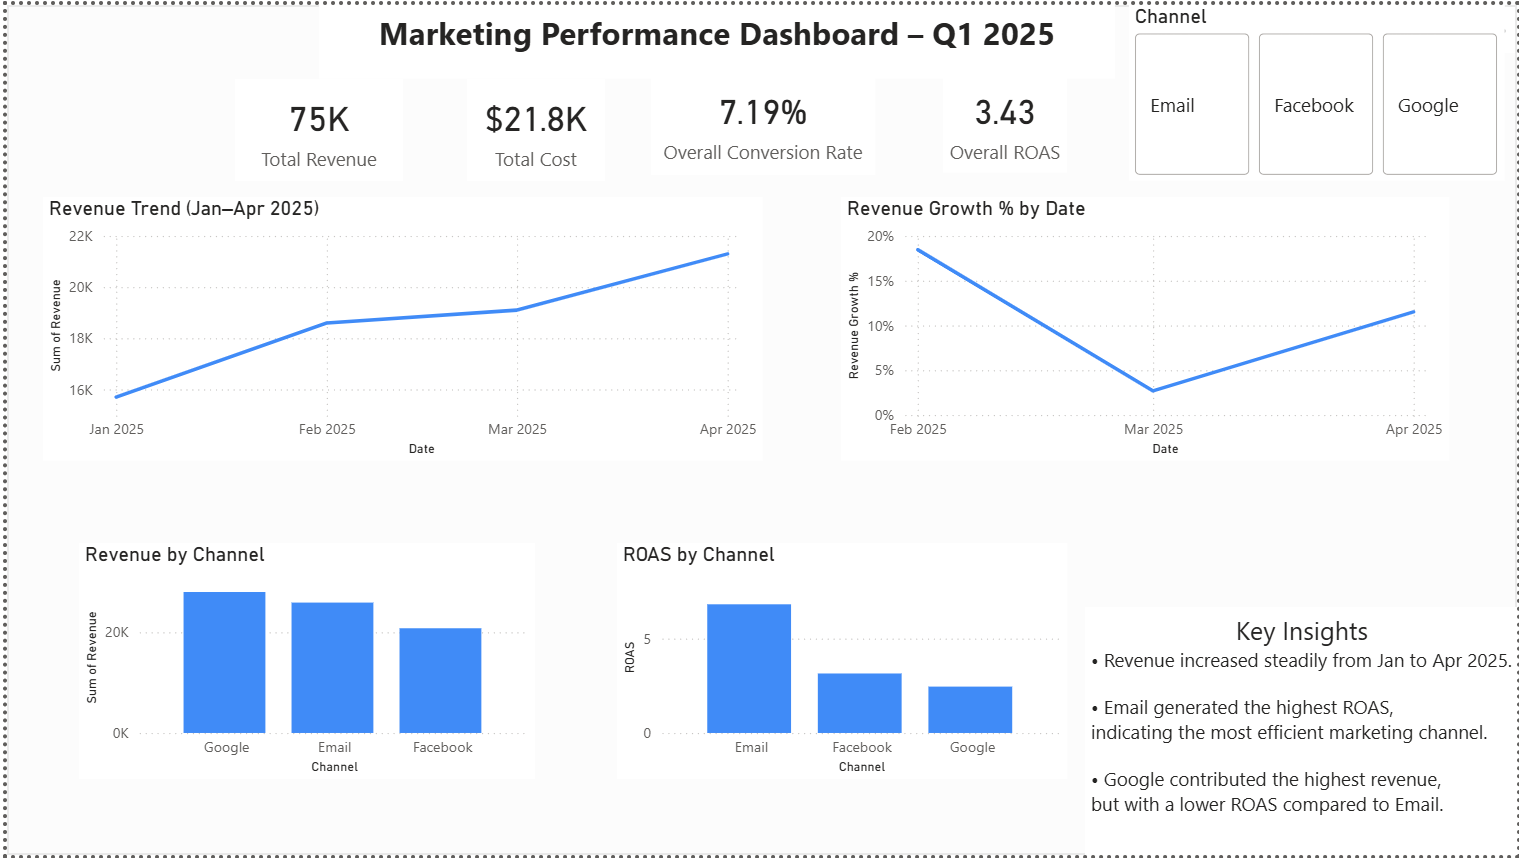

The page's visual inventory and layout, read from the dashboard file:
{"tool":"powerbi","page":{"name":"Page 1","canvas":[1280,720],"ordinal":0},"visuals":[{"type":"shape","box":[0,0,1279.7,720.3],"z":0},{"type":"lineChart","title":"Revenue Trend (Jan–Apr 2025)","fields":{"Category":["marketing_data.Date"],"Y":["Sum(marketing_data.Revenue)"]},"box":[30.5,162.7,610.2,223.7],"z":1000},{"type":"clusteredColumnChart","title":"Revenue by Channel","fields":{"Category":["marketing_data.Channel"],"Y":["Sum(marketing_data.Revenue)"]},"box":[61,455.9,386.4,200],"z":2000},{"type":"clusteredColumnChart","fields":{"Category":["marketing_data.Channel"],"Y":["marketing_data.ROAS"]},"box":[516.9,455.9,381.4,200],"z":3000},{"type":"textbox","box":[264.4,0,674.6,62.7],"z":4000},{"type":"lineChart","fields":{"Y":["marketing_data.Revenue Growth %"],"Category":["marketing_data.Date"]},"box":[706.8,162.7,515.3,223.7],"z":5000},{"type":"card","fields":{"Values":["marketing_data.Total Revenue"]},"box":[193.2,62.7,142.4,86.4],"z":6000},{"type":"card","fields":{"Values":["marketing_data.Total Cost"]},"box":[389.8,62.7,116.9,86.4],"z":7000},{"type":"card","fields":{"Values":["marketing_data.Overall Conversion Rate"]},"box":[545.8,55.9,189.8,88.1],"z":8000},{"type":"card","fields":{"Values":["marketing_data.Overall ROAS"]},"box":[793.2,57.6,105.1,84.7],"z":9000},{"type":"advancedSlicerVisual","fields":{"Values":["marketing_data.Channel"]},"box":[950.8,0,318.6,149.2],"z":10000},{"type":"textbox","box":[913.6,510.2,367.8,213.6],"z":11000}]}

Visuals, with their boxes in screenshot pixels (x1, y1, x2, y2), scaled from the page's 1280x720 canvas onto the 1519x858 screenshot:
shape: region(0, 0, 1518, 857)
"Revenue Trend (Jan–Apr 2025)" lineChart: region(36, 194, 760, 460)
"Revenue by Channel" clusteredColumnChart: region(72, 543, 531, 782)
clusteredColumnChart - marketing_data.Channel x marketing_data.ROAS: region(613, 543, 1066, 782)
textbox: region(314, 0, 1114, 75)
lineChart - marketing_data.Revenue Growth % x marketing_data.Date: region(839, 194, 1450, 460)
card - marketing_data.Total Revenue: region(229, 75, 398, 178)
card - marketing_data.Total Cost: region(463, 75, 601, 178)
card - marketing_data.Overall Conversion Rate: region(648, 67, 873, 172)
card - marketing_data.Overall ROAS: region(941, 69, 1066, 170)
advancedSlicerVisual - marketing_data.Channel: region(1128, 0, 1506, 178)
textbox: region(1084, 608, 1518, 857)
